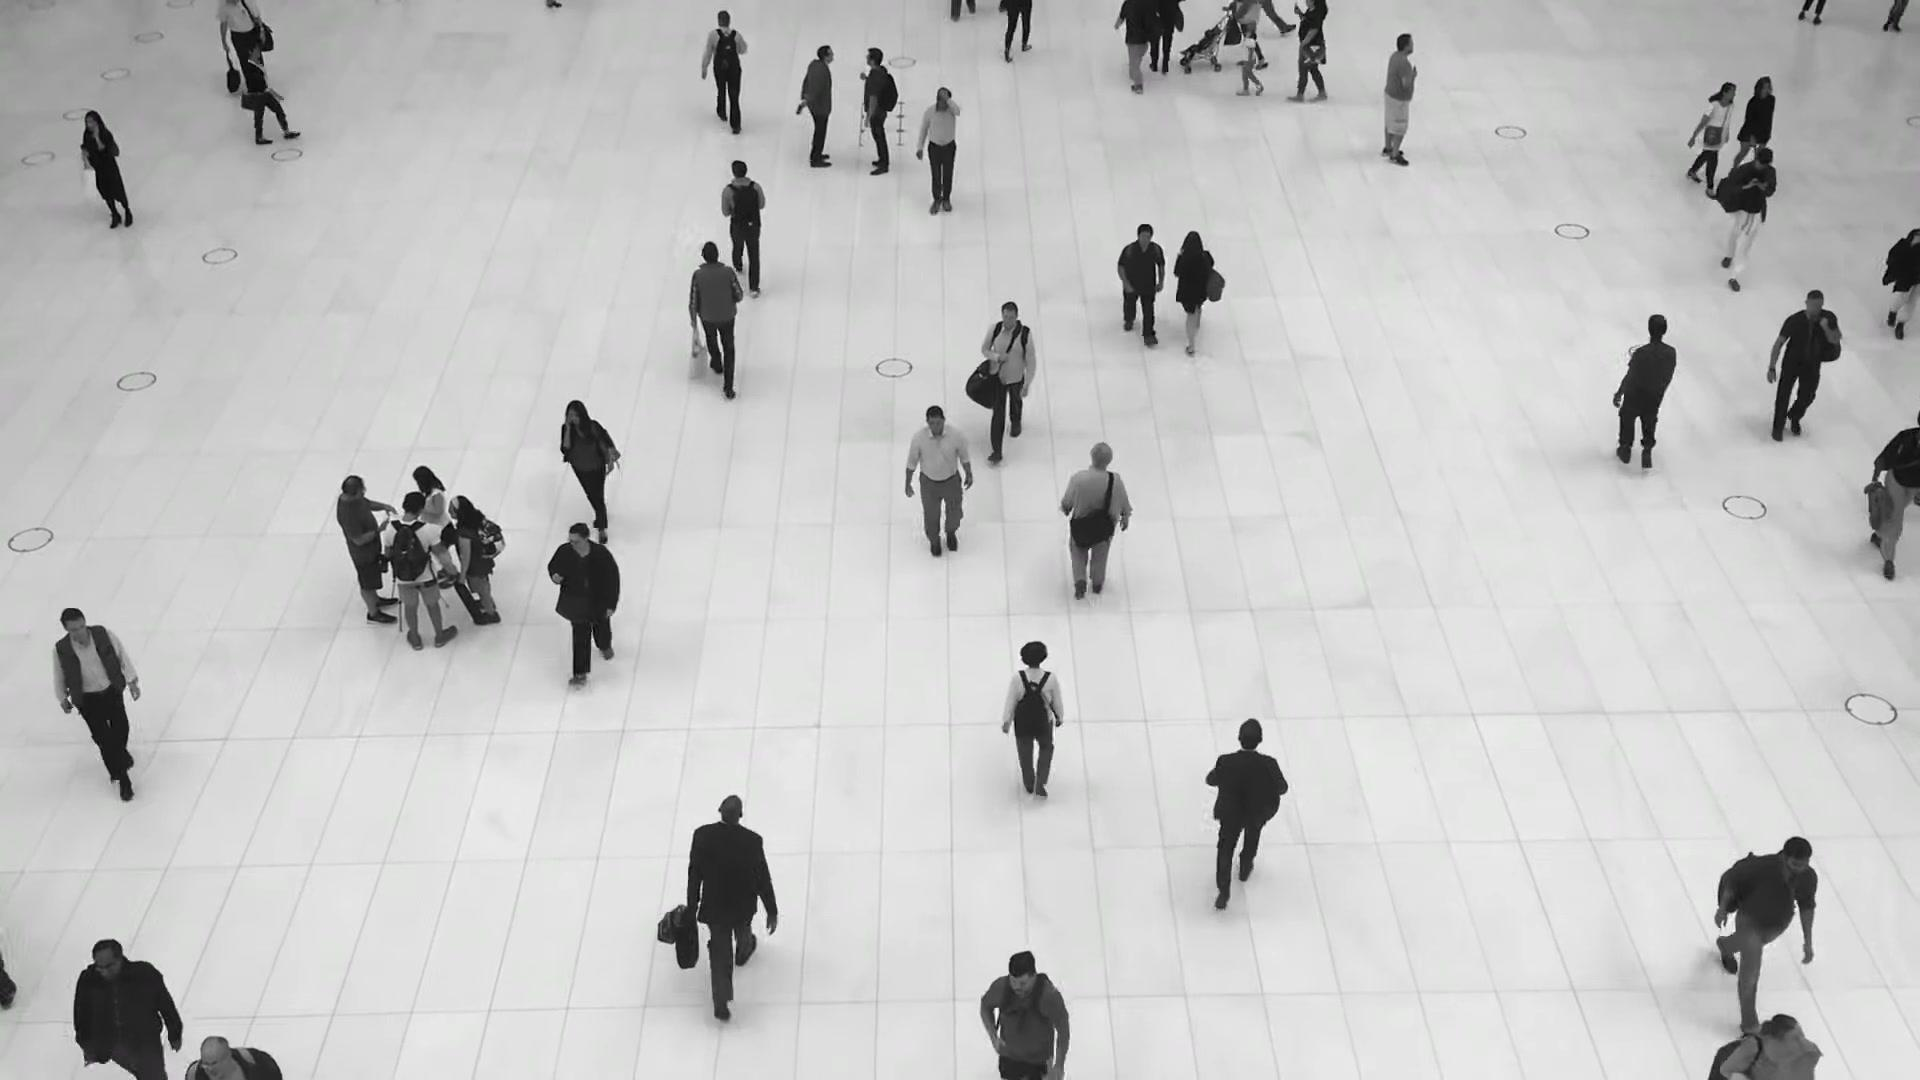person: (682, 801, 772, 1028), (1715, 831, 1818, 1021), (1203, 724, 1286, 926), (74, 936, 188, 1080), (51, 605, 139, 781), (982, 949, 1077, 1079), (1765, 291, 1841, 449), (382, 492, 458, 651), (1059, 445, 1129, 616), (547, 519, 624, 675), (1612, 316, 1679, 483), (1001, 645, 1065, 818), (906, 405, 974, 564), (336, 474, 400, 629), (981, 297, 1037, 459), (688, 242, 745, 399), (1715, 145, 1777, 288), (561, 397, 619, 533), (448, 495, 502, 626), (80, 110, 134, 230), (720, 158, 768, 294), (914, 87, 961, 217), (1116, 219, 1167, 339), (412, 465, 459, 590), (703, 10, 749, 131), (1689, 80, 1736, 196), (1172, 231, 1214, 353), (859, 47, 898, 176), (1381, 32, 1418, 166), (1286, 0, 1329, 107), (799, 44, 834, 168), (242, 42, 282, 146), (1737, 74, 1774, 165), (1233, 27, 1264, 98)
